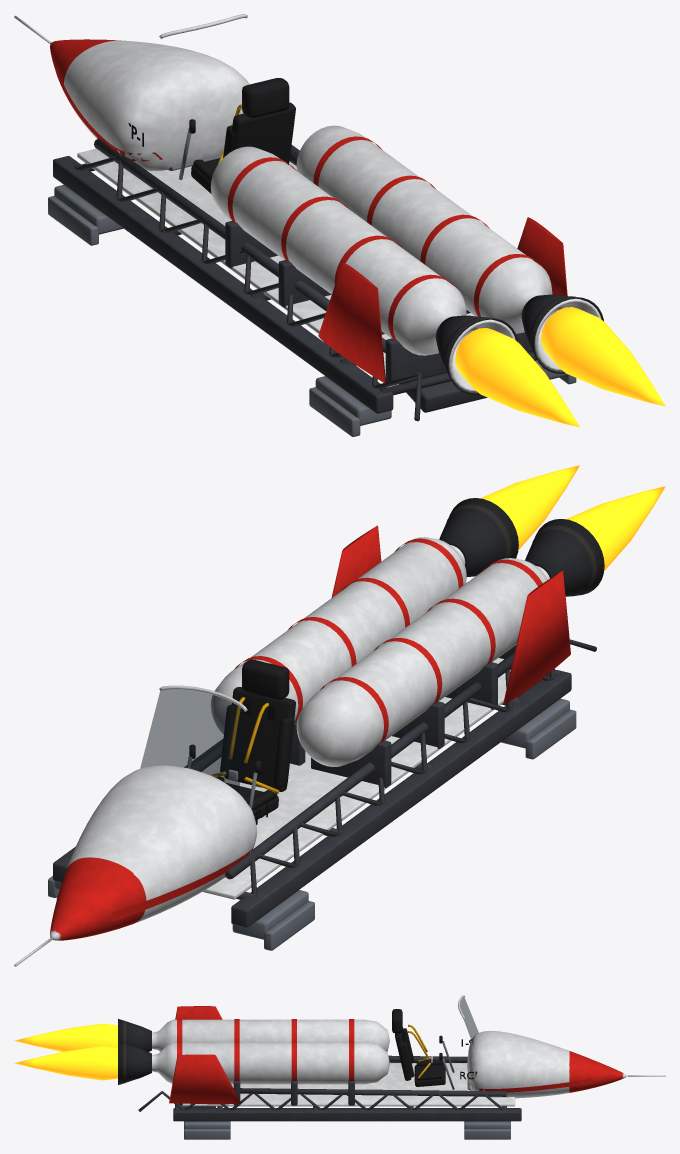
The model's file is RocketSled.glb.
3 renders of one model, top to bottom at view 1: azimuth 30°, elevation 25°; view 2: azimuth 150°, elevation 25°; view 3: azimuth 270°, elevation 25°, orthographic. The views are drawn at different scales.
Parts seen in each view (by area): view 1: RocketSled_Body, RocketSled_Trim, RocketSled_Lights, RocketSled_Interior; view 2: RocketSled_Body, RocketSled_Trim, RocketSled_Interior, RocketSled_Glass, RocketSled_Lights; view 3: RocketSled_Body, RocketSled_Trim, RocketSled_Lights, RocketSled_Interior, RocketSled_Glass.
Boxes of the visible parts, bbox=[...] form: RocketSled_Body: bbox=[50, 39, 601, 392]; RocketSled_Trim: bbox=[14, 14, 603, 436]; RocketSled_Lights: bbox=[455, 307, 665, 427]; RocketSled_Interior: bbox=[168, 78, 295, 193]; RocketSled_Body: bbox=[50, 525, 570, 940]; RocketSled_Trim: bbox=[14, 498, 604, 966]; RocketSled_Interior: bbox=[187, 659, 295, 820]; RocketSled_Glass: bbox=[140, 689, 245, 793]; RocketSled_Lights: bbox=[480, 465, 665, 570]; RocketSled_Body: bbox=[152, 1006, 626, 1106]; RocketSled_Trim: bbox=[118, 995, 665, 1139]; RocketSled_Lights: bbox=[14, 1023, 117, 1080]; RocketSled_Interior: bbox=[392, 1009, 471, 1090]; RocketSled_Glass: bbox=[460, 997, 478, 1045].
Size of the model in its own units: 6.55 by 5.54 by 30.7.
6 materials, 3 textured.
